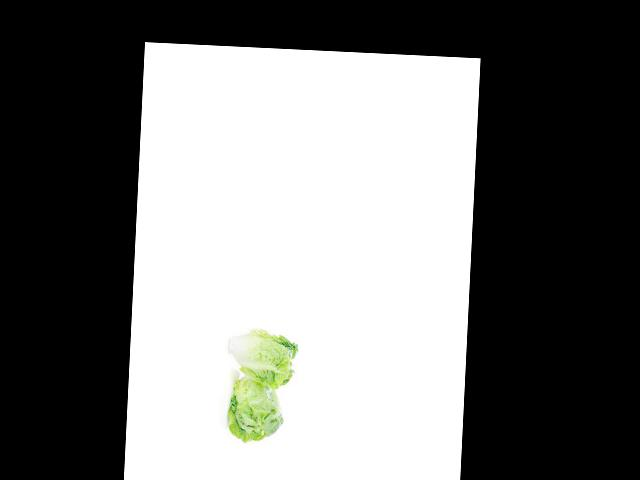lettuce: (219, 324, 296, 446)
